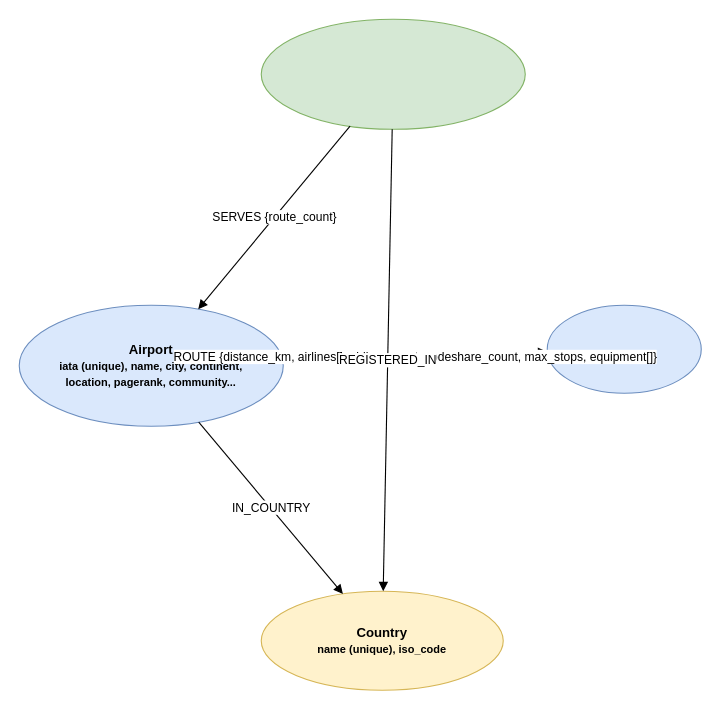
Image size: 721x710. Some labels were removed from this diagram. The shapes that lost their labels are listed below. From the top down, each one's box as (x1, y1, x2, y2) in pixels, then its label:
(260, 18, 525, 129): Airline openflights_id (unique), iata, icao, name
(546, 304, 701, 393): Airport
